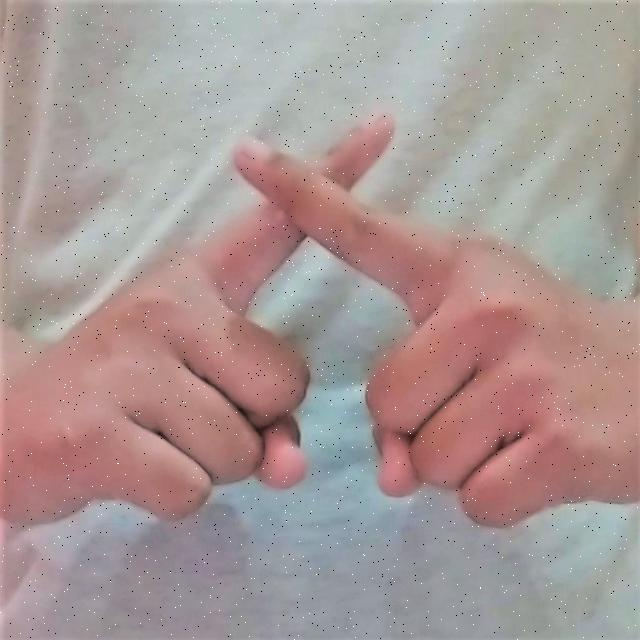X: (78, 89, 604, 582)
